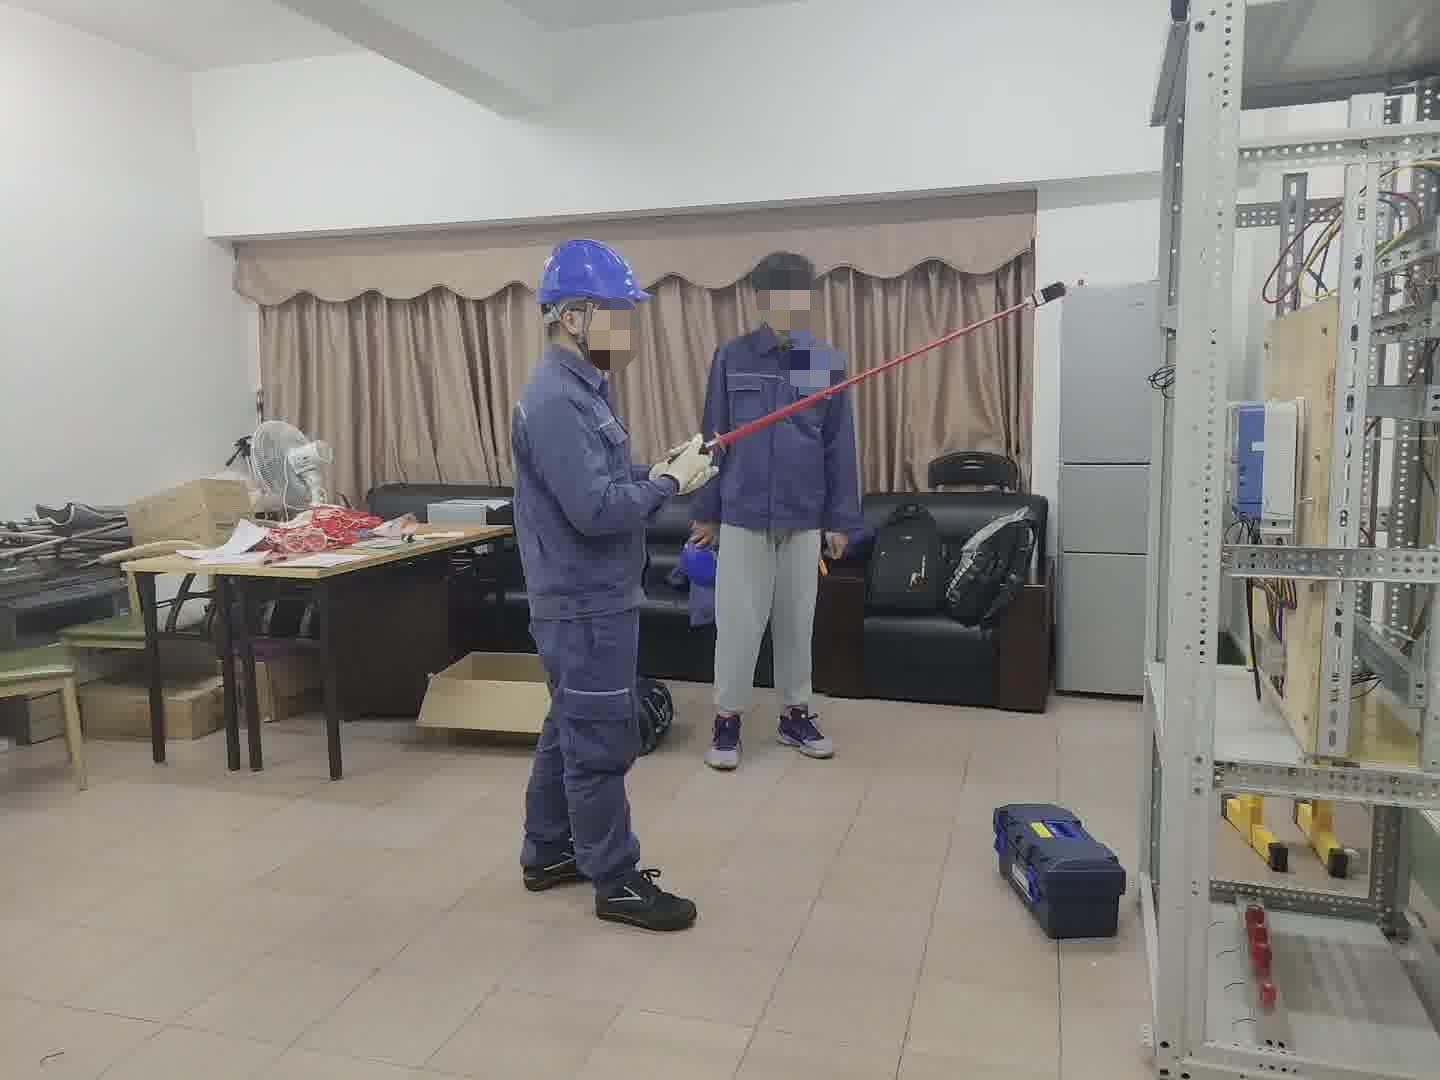halt: (535, 242, 653, 361)
inear: (553, 299, 604, 357)
unhalt: (747, 251, 824, 334)
